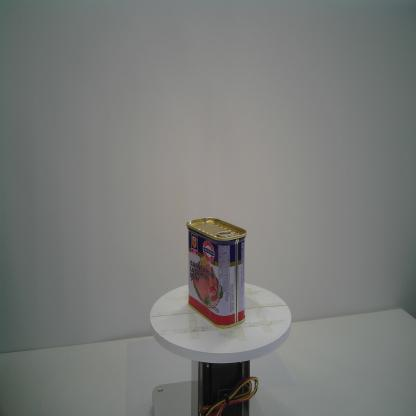Canned Food: (186, 217, 247, 329)
